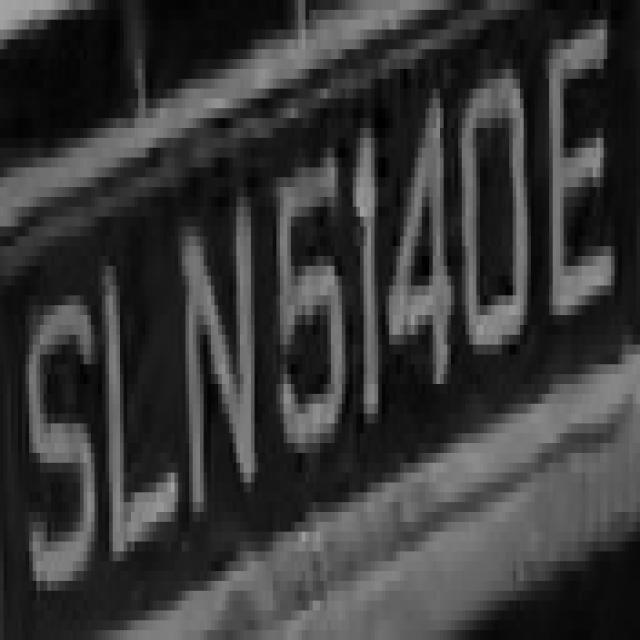0: (455, 49, 527, 394)
1: (349, 89, 389, 492)
4: (371, 69, 454, 423)
5: (262, 128, 345, 463)
E: (538, 19, 615, 354)
L: (91, 217, 178, 581)
N: (167, 187, 269, 542)
S: (22, 266, 94, 591)
